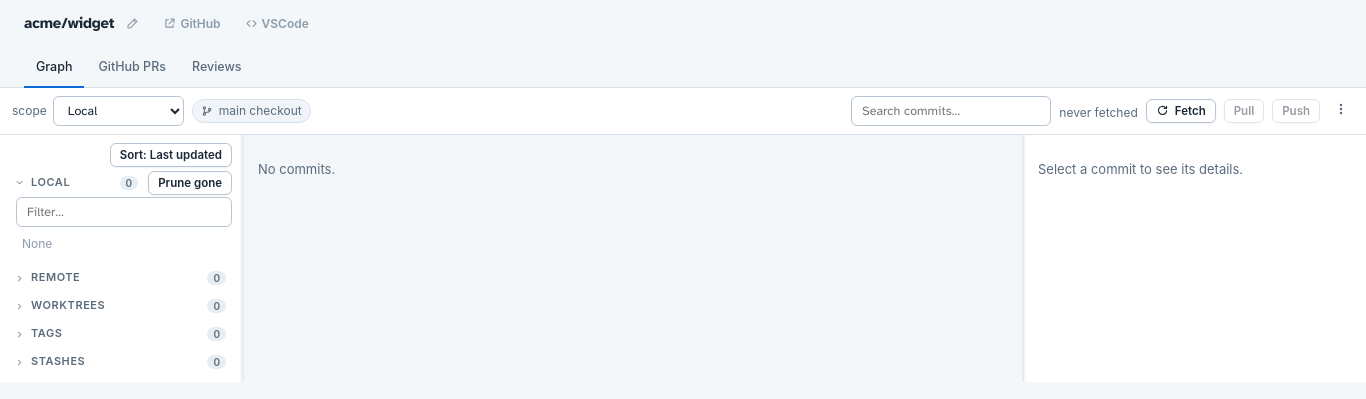
RepoView PR list › toolbar still renders when the list is empty
The image size is (1366, 399).
Click the button "GitHub PRs": (132, 68) [86,49,178,88]
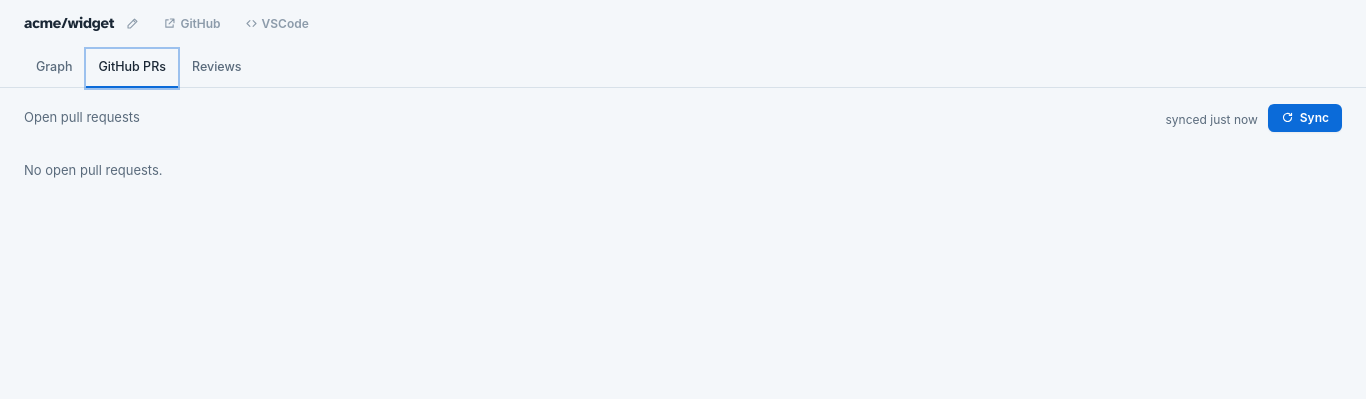
Check: the text "No open pull requests." is shown, box [24,162,163,178]
Check: the button "Sync" is shown, box [1268,104,1342,132]
